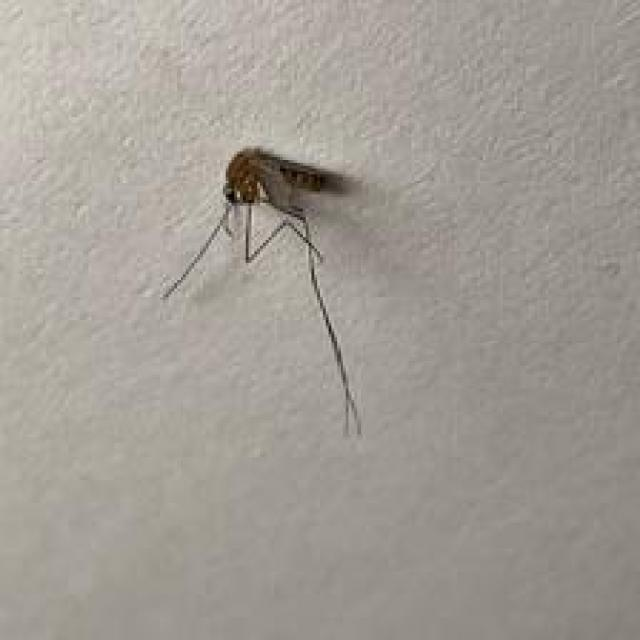Culex: (160, 146, 363, 437)
